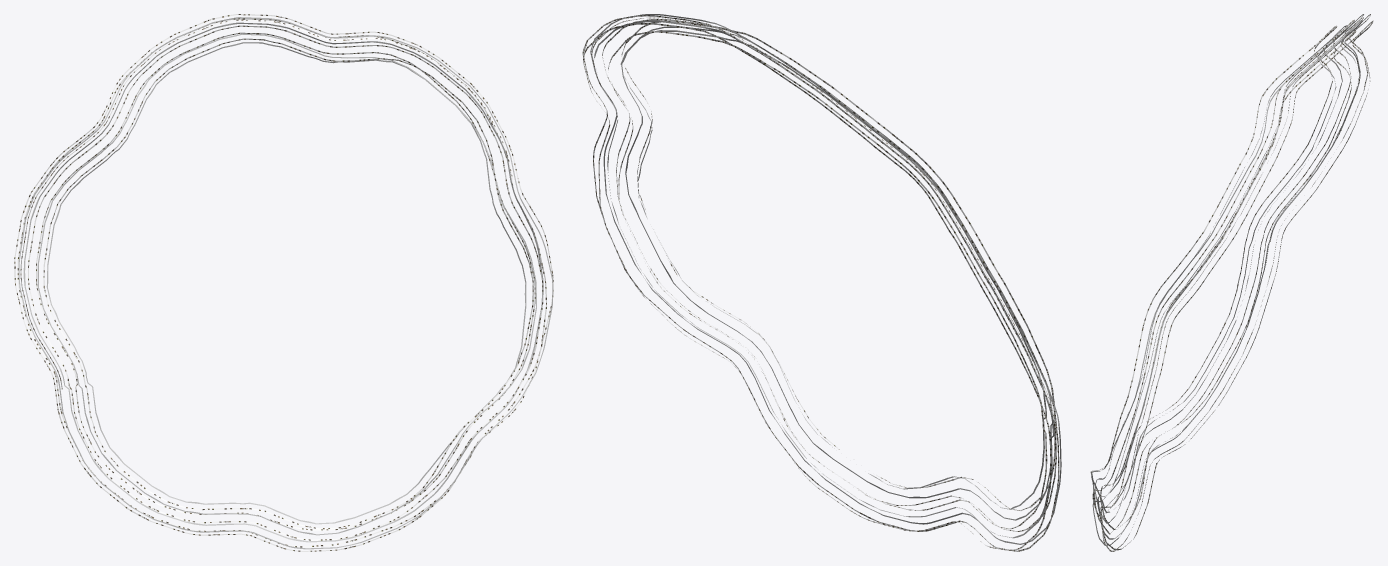
The model's file is VFX_Traffic_RimCity2.fbx.
3 views of the same model, side by side, from view 1: azimuth 30°, elevation 25°; view 2: azimuth 150°, elevation 25°; view 3: azimuth 270°, elevation 25° (orthographic). The views are drawn at different scales.
Parts seen in each view (by area): view 1: VFX_Traffic_RimCity2; view 2: VFX_Traffic_RimCity2; view 3: VFX_Traffic_RimCity2.
Part boxes in pixels (x1=…): VFX_Traffic_RimCity2: x1=14, y1=14, x2=553, y2=551; VFX_Traffic_RimCity2: x1=582, y1=14, x2=1061, y2=551; VFX_Traffic_RimCity2: x1=1090, y1=14, x2=1373, y2=551.
Size of the model in its own units: 167137 by 164286 by 83487.
